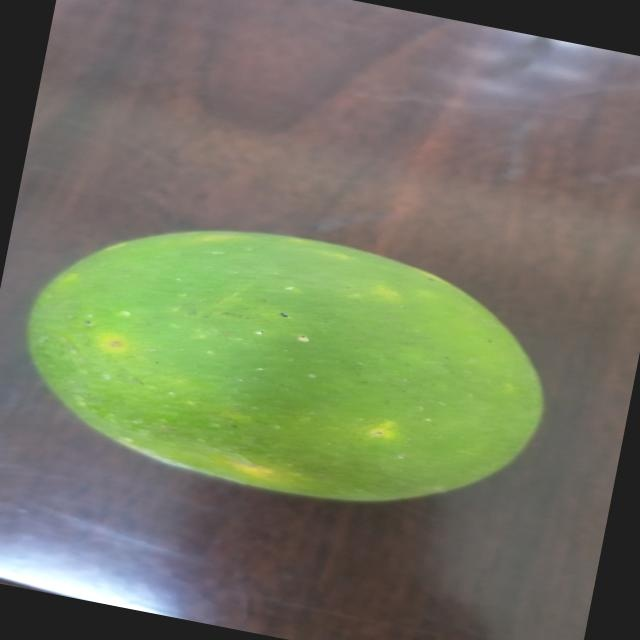agrume: (0, 184, 591, 548)
